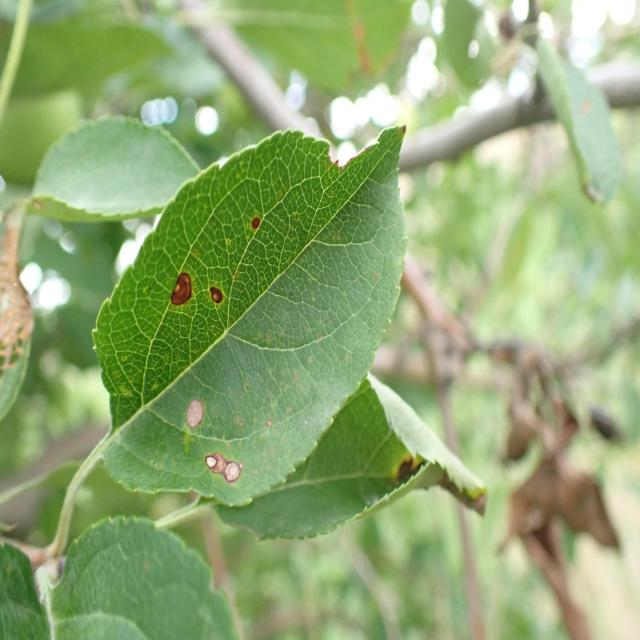Black Rot: (190, 446, 244, 491), (182, 385, 220, 441), (200, 272, 236, 320), (171, 252, 197, 311), (245, 208, 268, 252)
